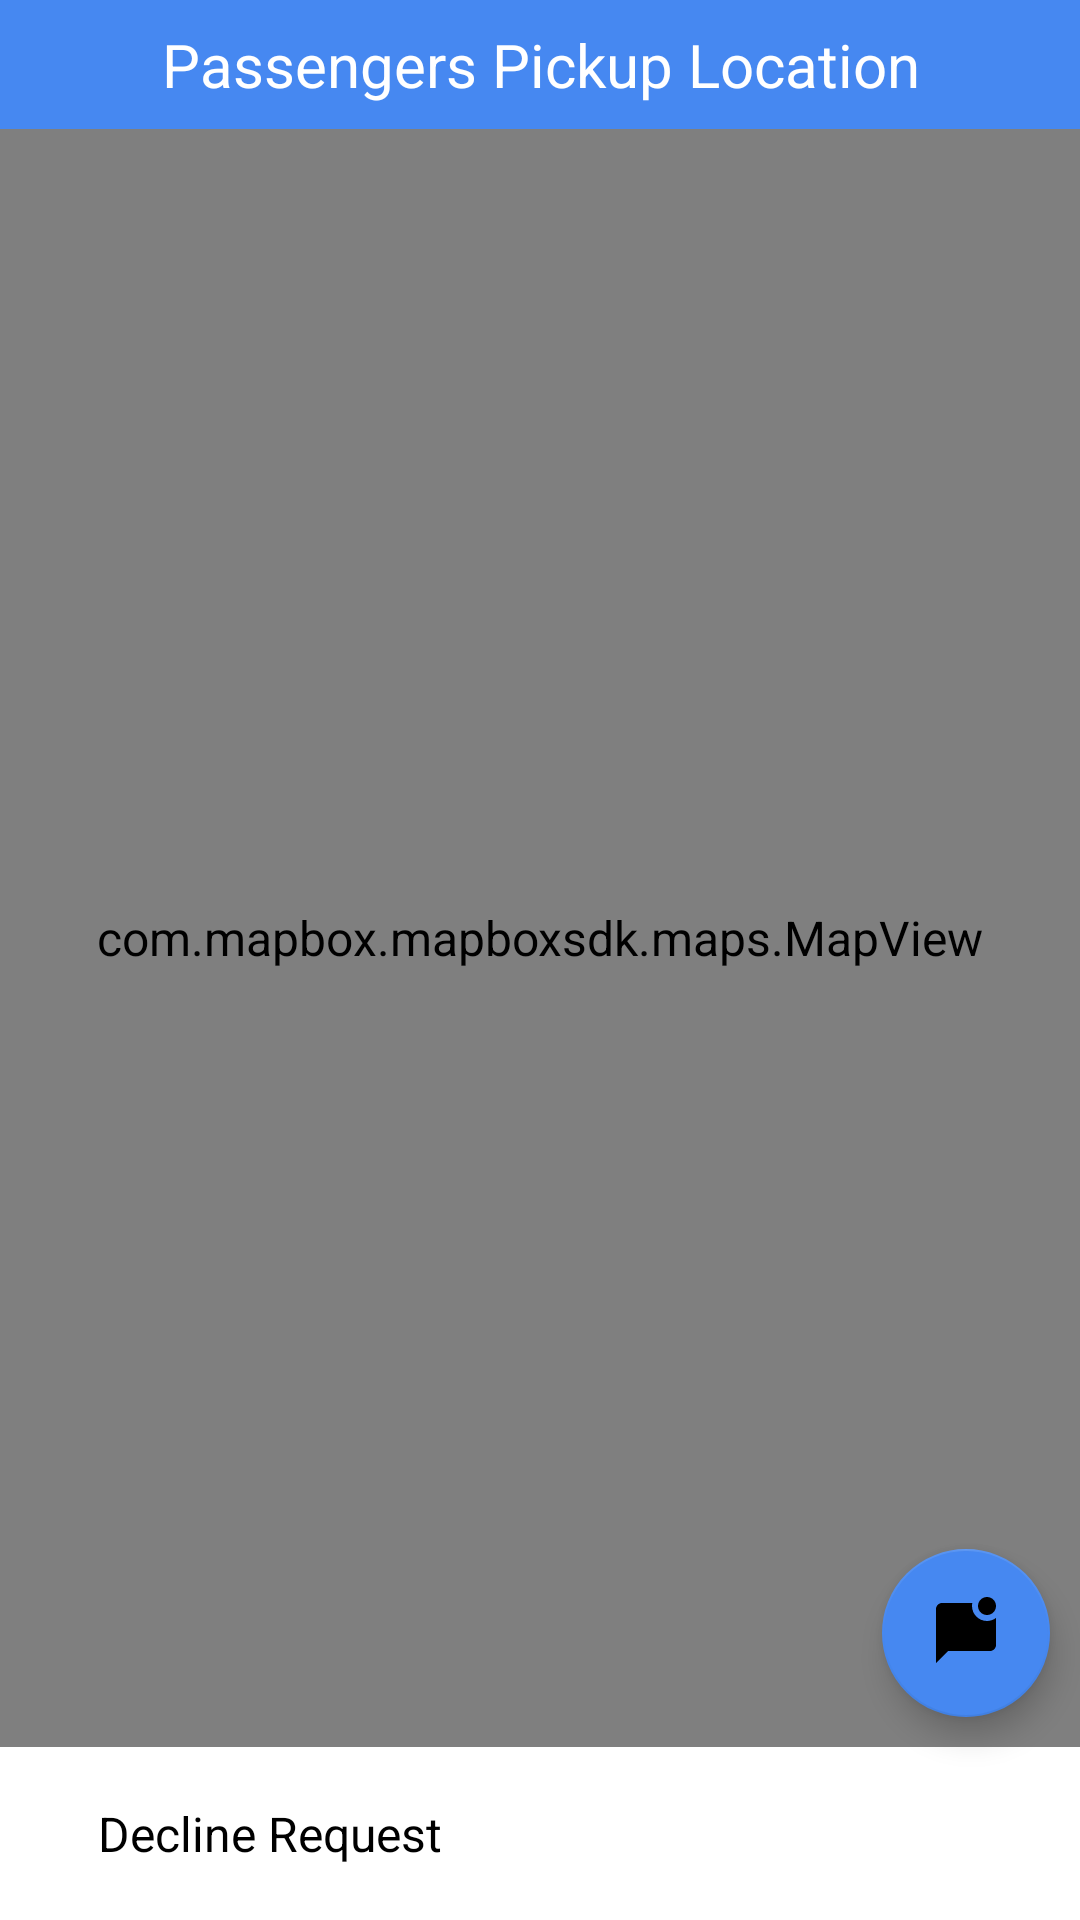

Where icons sit on this 1080w x 1920h app screen, as (x1, y1, x2, y2):
message: (882, 1549, 1050, 1717)
